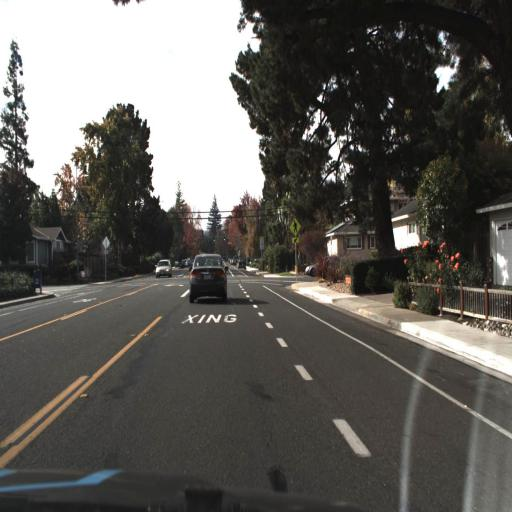car: (186, 253, 228, 304), (303, 254, 347, 276), (154, 257, 172, 278)
